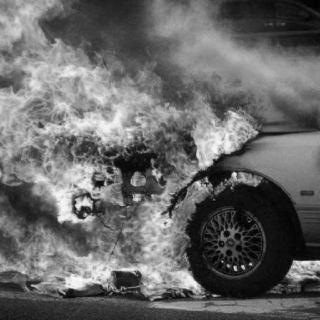Fire: (279, 252, 317, 290)
